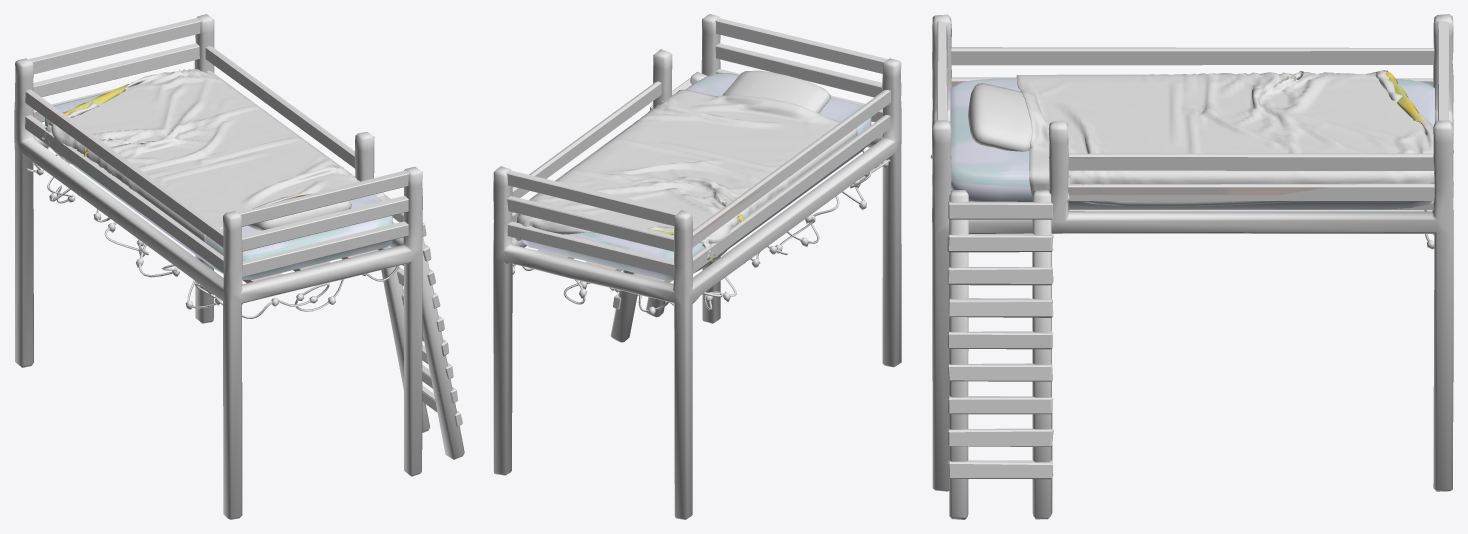
Rendered from Bunk_Bed_Colored.fbx.
The picture shows the model from 3 angles, left to right: view 1: azimuth 30°, elevation 25°; view 2: azimuth 150°, elevation 25°; view 3: azimuth 270°, elevation 25°; orthographic projection. The views are drawn at different scales.
Visible parts, largest first — view 1: frame, blanket, mattress, lights, pillow; view 2: frame, blanket, mattress, pillow, lights; view 3: frame, blanket, mattress, pillow, underframe.
Boxes of the visible parts, bbox=[...] form: frame: bbox=[14, 14, 464, 519]; blanket: bbox=[42, 68, 359, 242]; mattress: bbox=[45, 91, 392, 279]; lights: bbox=[26, 147, 398, 318]; pillow: bbox=[248, 196, 351, 230]; frame: bbox=[493, 14, 901, 519]; blanket: bbox=[514, 89, 857, 261]; mattress: bbox=[523, 73, 871, 279]; pillow: bbox=[722, 70, 830, 113]; lights: bbox=[512, 150, 890, 315]; frame: bbox=[932, 14, 1453, 519]; blanket: bbox=[1016, 70, 1434, 206]; mattress: bbox=[950, 78, 1434, 209]; pillow: bbox=[968, 83, 1031, 151]; underframe: bbox=[1069, 201, 1433, 210].
Size of the model in its own units: 4.16 by 4.85 by 6.27.
Materials: 7 (4 with a texture image).
